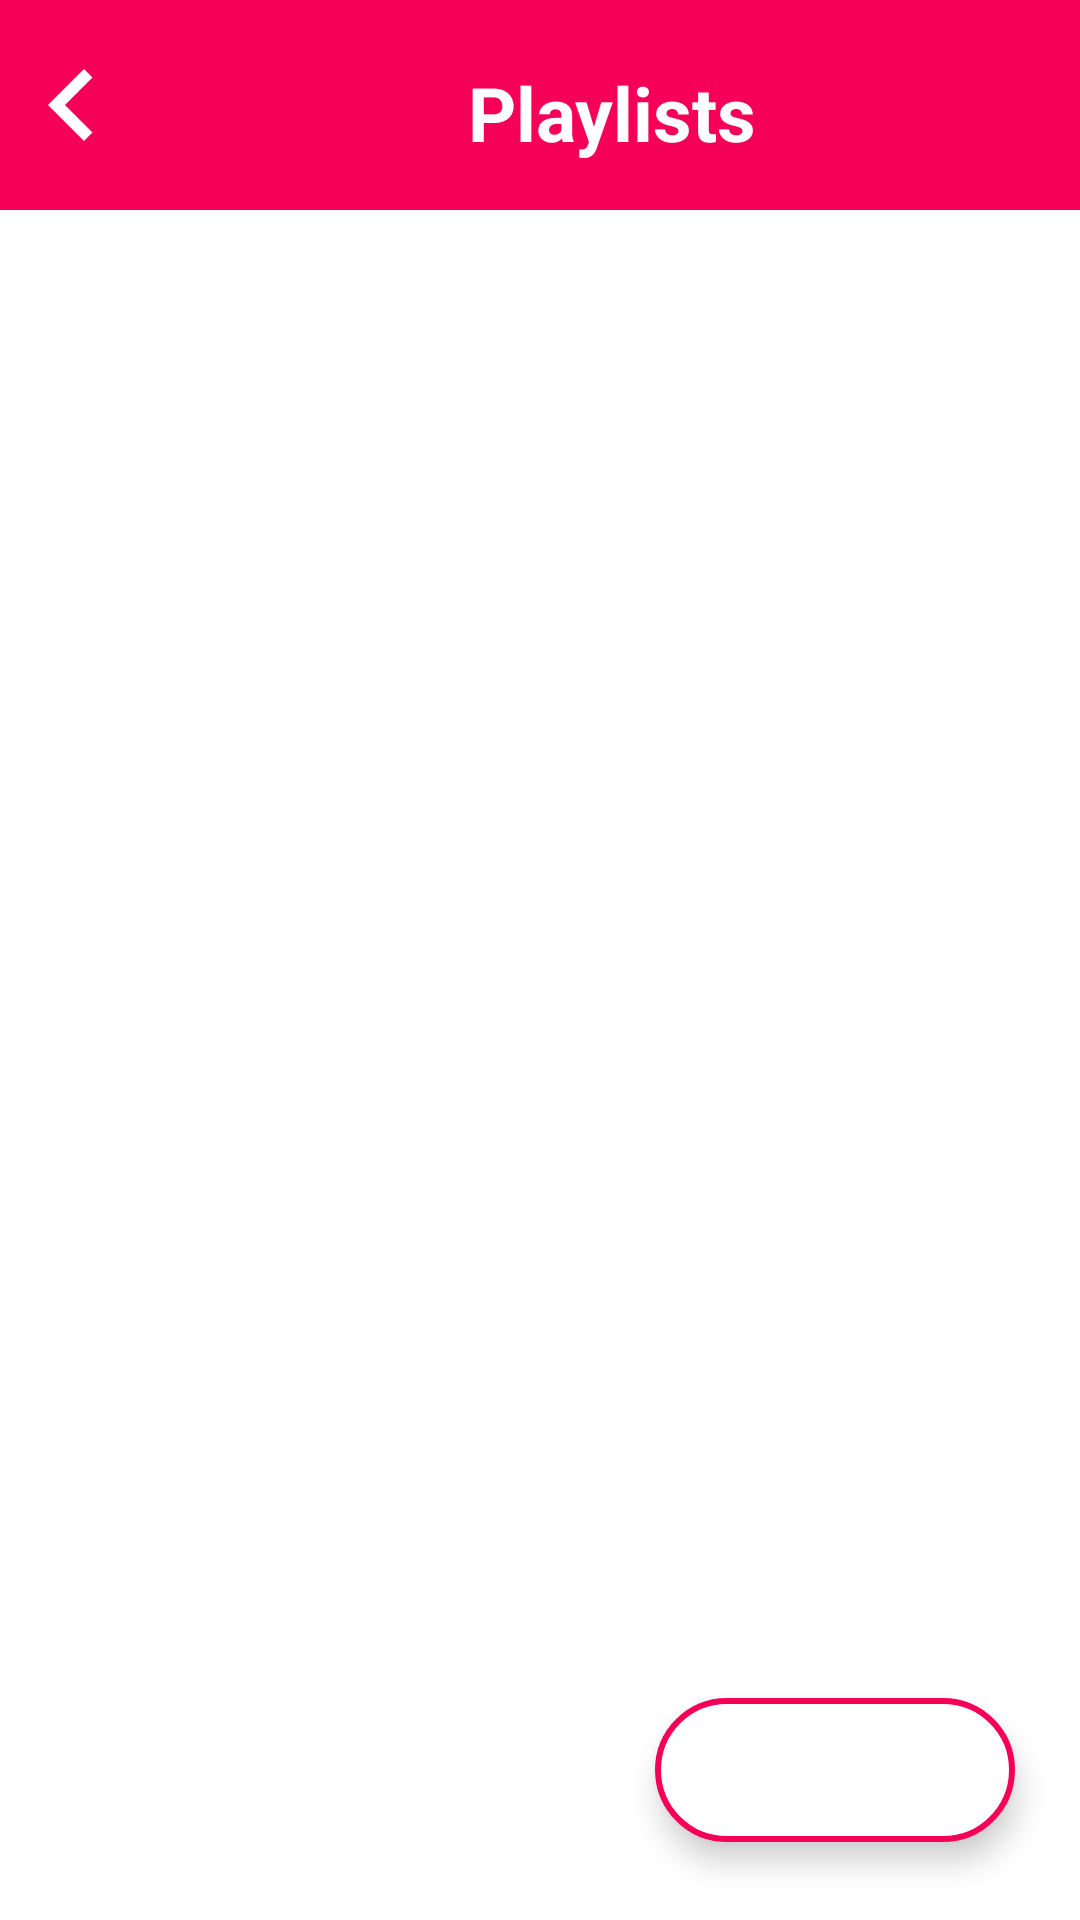

Point at icon controls on the screen. Image size 1080*1920, points as point (x, y).
Back: point (70, 105)
